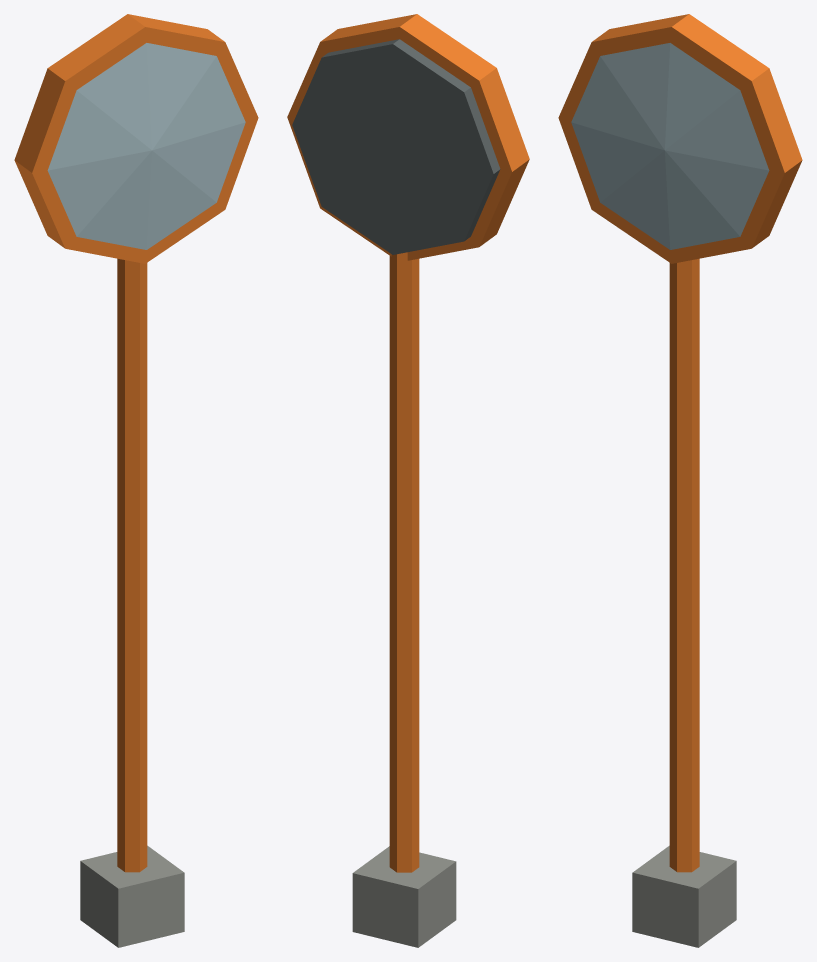
The model's file is curve-mirror-lod.glb.
3 views of the same model, side by side, from view 1: azimuth 30°, elevation 25°; view 2: azimuth 150°, elevation 25°; view 3: azimuth 330°, elevation 25° (orthographic).
Visible parts, largest first — view 1: curve-mirror; view 2: curve-mirror; view 3: curve-mirror.
Boxes of the visible parts, left/top/right/bottom form: curve-mirror: left=14, top=14, right=258, bottom=947; curve-mirror: left=287, top=14, right=529, bottom=947; curve-mirror: left=558, top=14, right=802, bottom=947.
Bounding box in the file's own units: 0.96 × 3.68 × 0.285.
